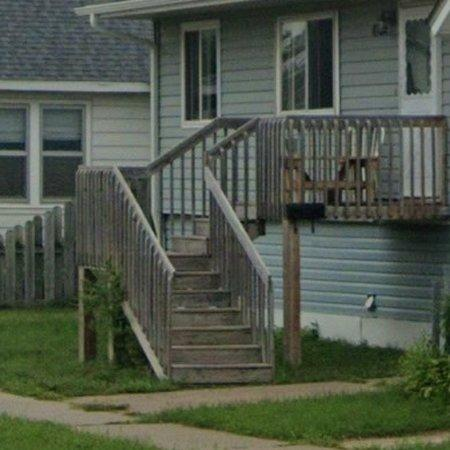stairs: (76, 118, 285, 384)
